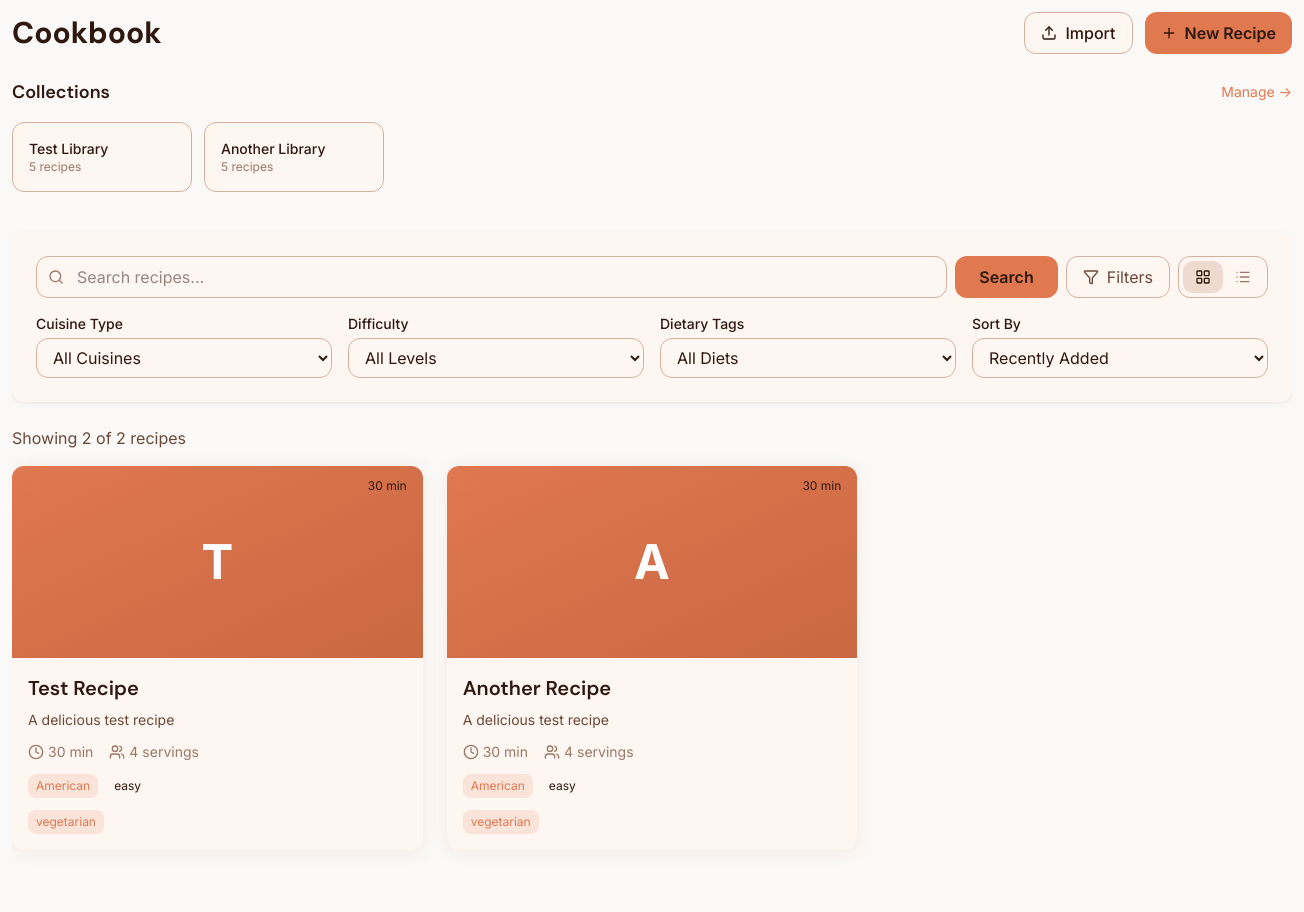
RecipesPage › Filter Functionality › should clear all filters when clear button is clicked
# Apply multiple filters
Select "Italian" in the dropdown below "Cuisine Type" at (184, 358), box [36,338,332,378]
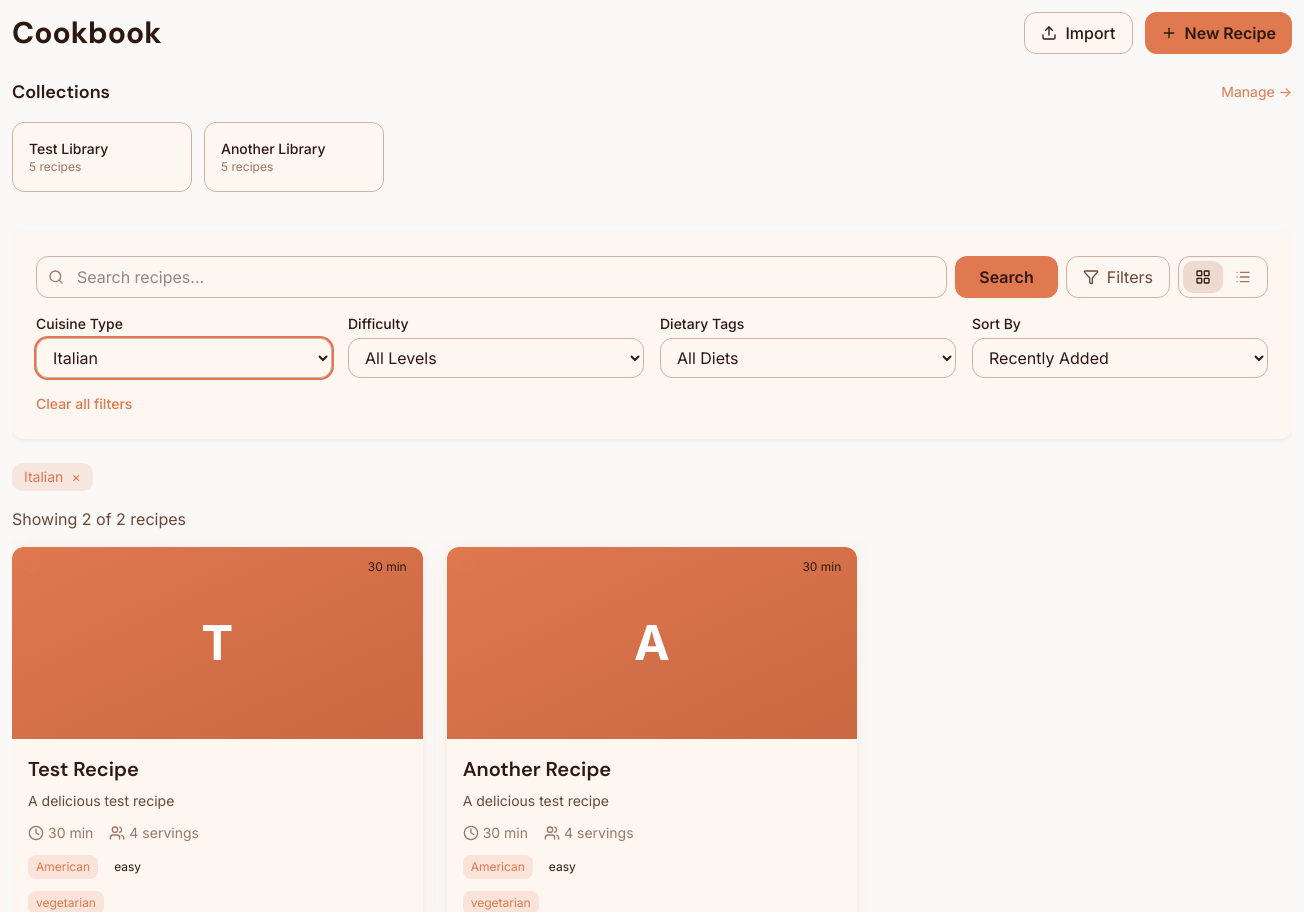
Select "Easy" in the dropdown below "Difficulty" at (496, 358), box [348,338,644,378]
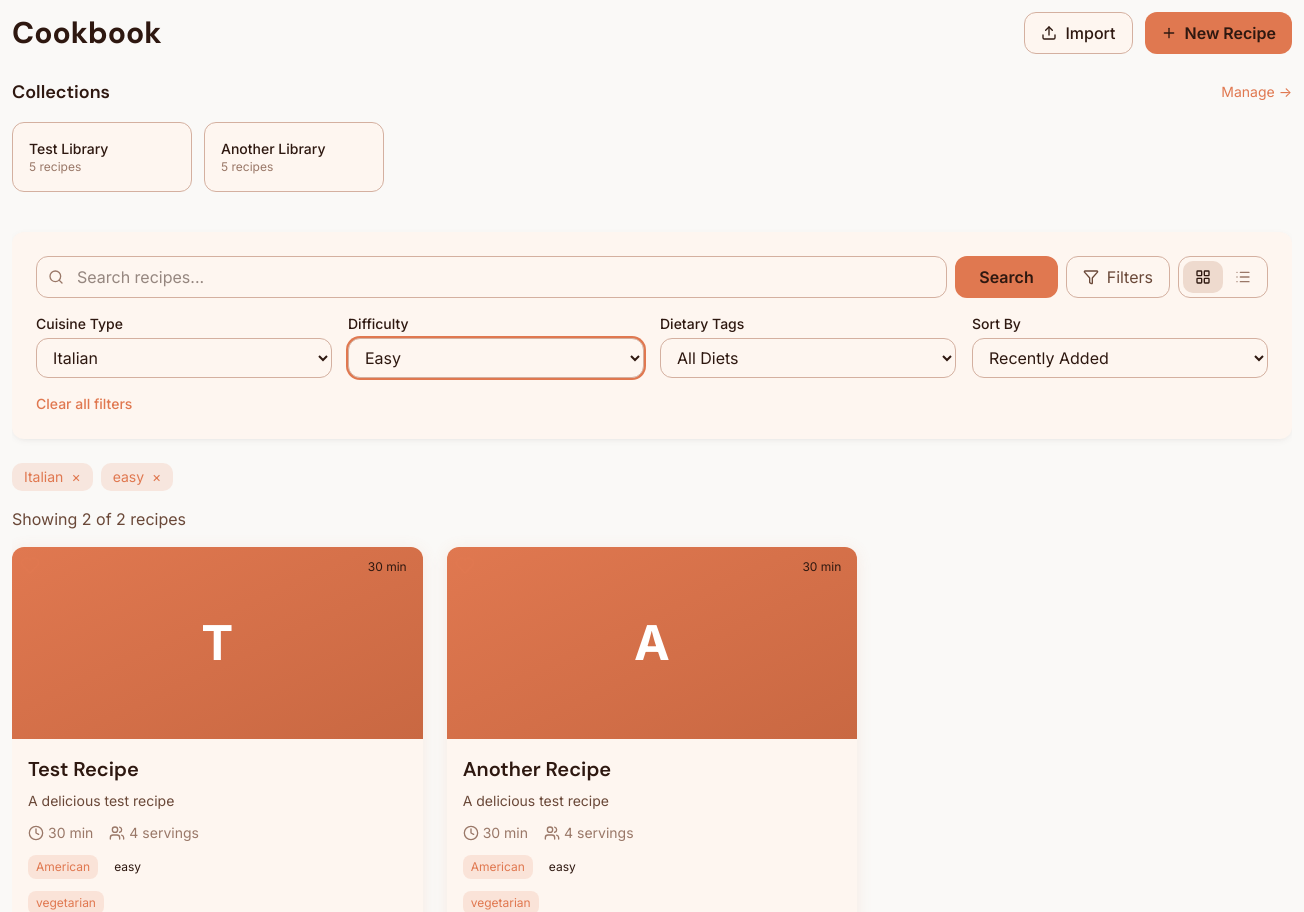
Type "pasta" into the field with placeholder "Search recipes...".
click(492, 277); type("pasta")  # box [36,256,947,298]
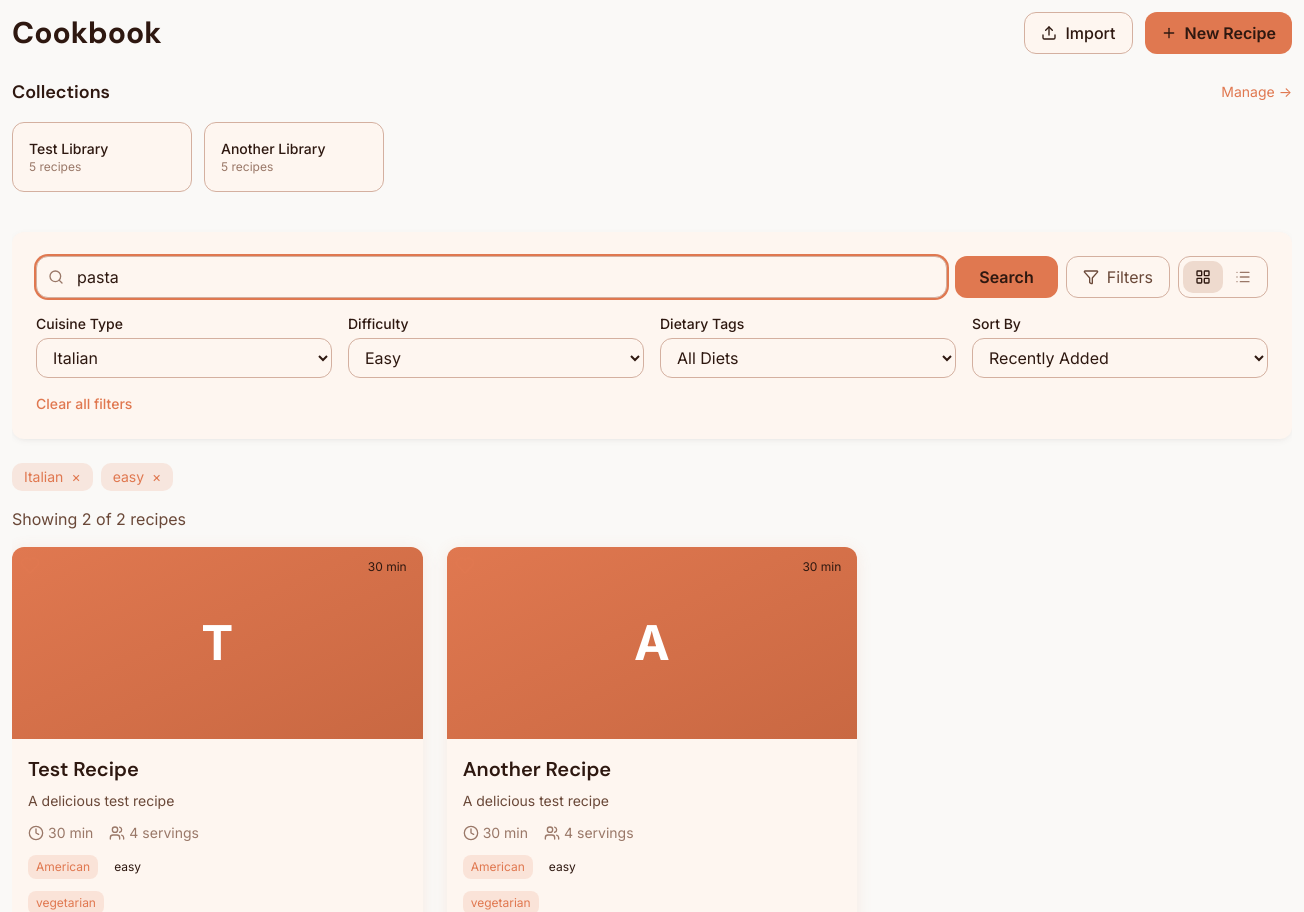
# Click clear filters
Click the button "Clear all filters".
click(84, 404)  # box [36,394,132,414]
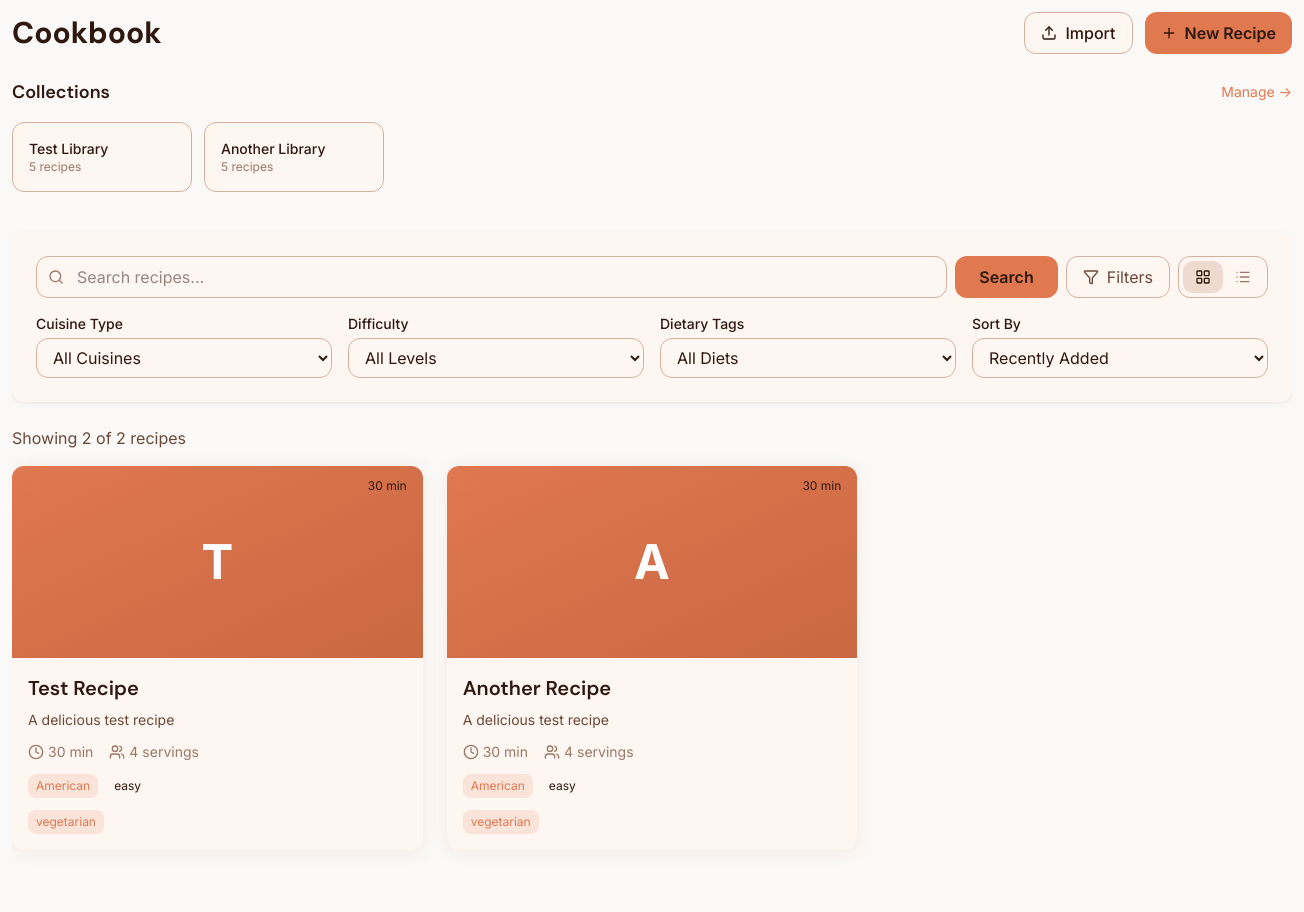
Now the field with placeholder "Search recipes..." is empty, box [36,256,947,298]
